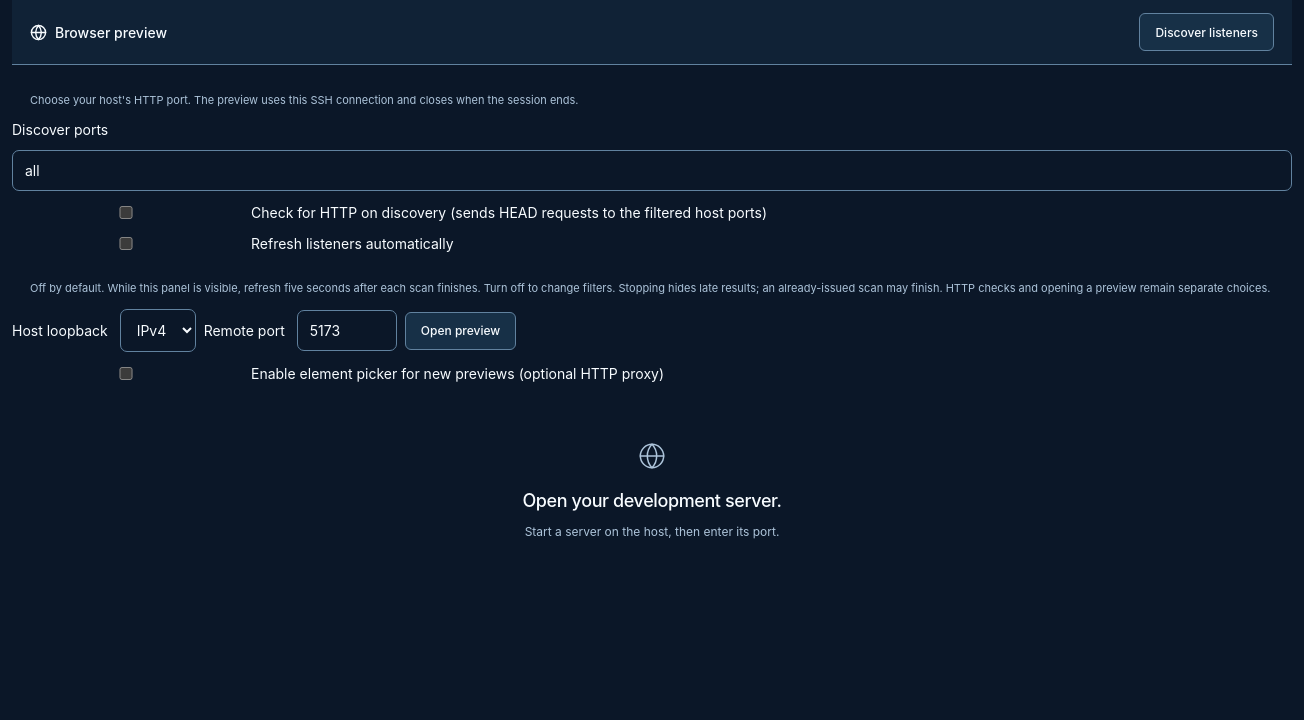
Test: disables future rounds and ignores a late completion after opt-out
The image size is (1304, 720).
Click the checkbox labelled "Refresh listeners automatically".
click(126, 244)  # box [16,237,236,250]
Wait 5000 ms
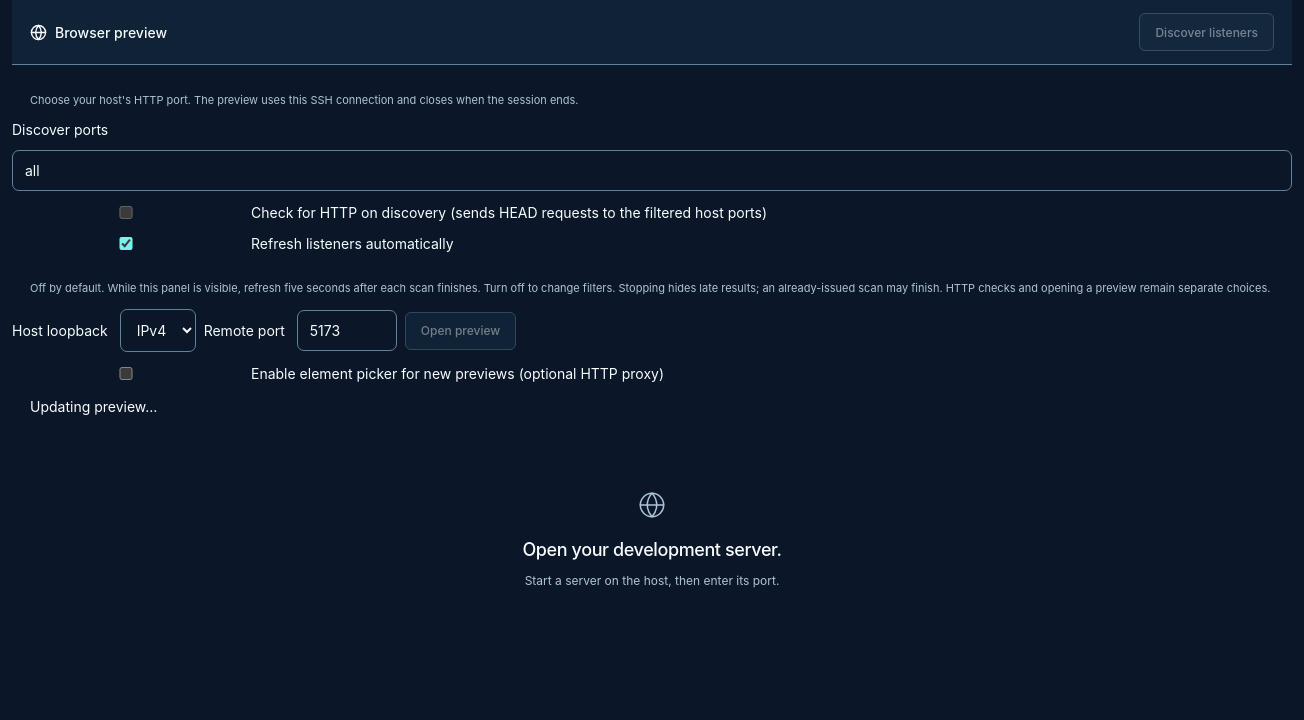
Click the checkbox labelled "Refresh listeners automatically".
click(126, 244)  # box [16,237,236,250]
Wait 15000 ms
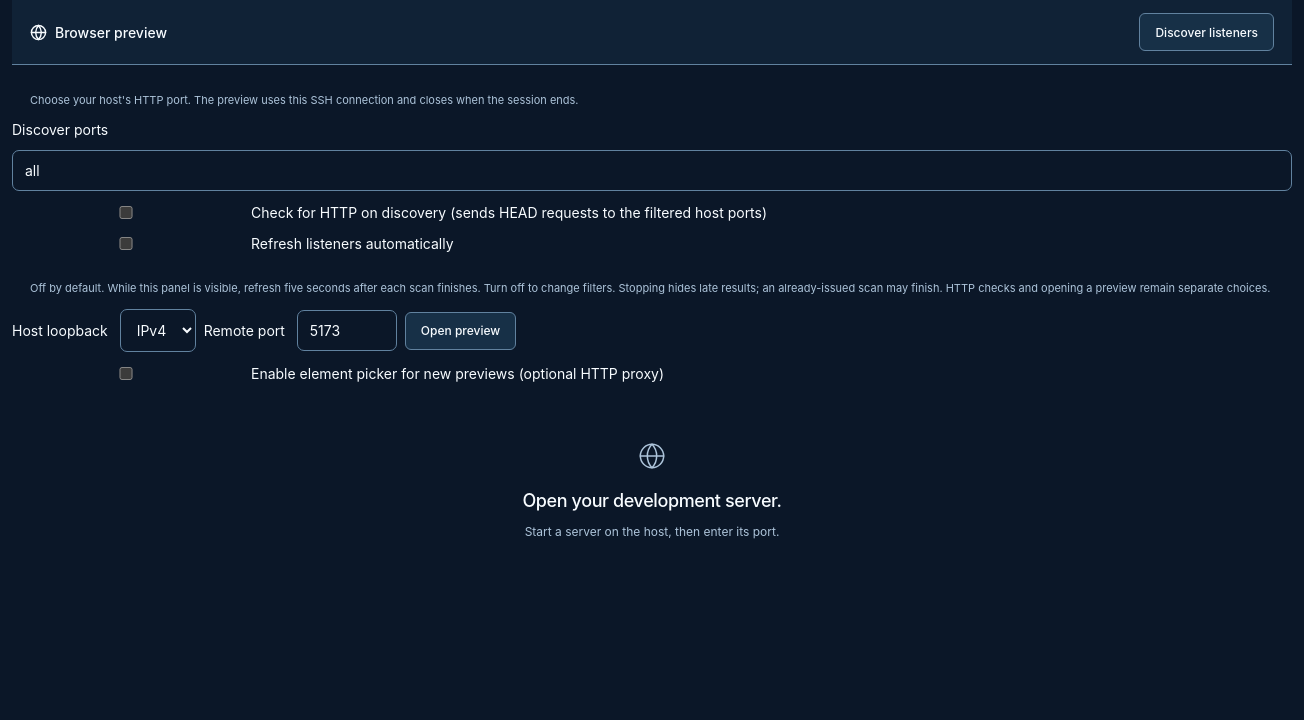
Check: the button "Discover listeners" is enabled, box [1140,13,1274,51]
